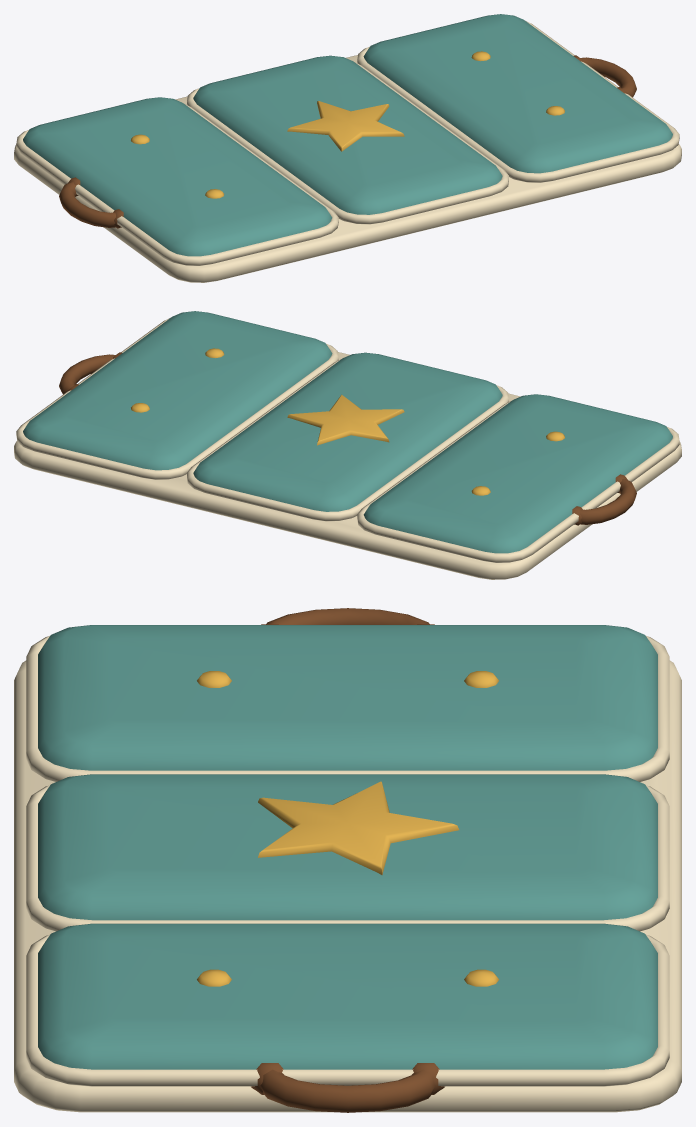
The model's file is ShopGymMat.fbx.
The picture shows the model from 3 angles, top to bottom: view 1: azimuth 30°, elevation 25°; view 2: azimuth 150°, elevation 25°; view 3: azimuth 270°, elevation 25°; orthographic projection. The views are drawn at different scales.
Parts seen in each view (by area): view 1: ShopGymMat; view 2: ShopGymMat; view 3: ShopGymMat.
Boxes of the visible parts, x1,y1,x2,y2 form: ShopGymMat: [14, 14, 681, 282]; ShopGymMat: [14, 311, 681, 579]; ShopGymMat: [14, 608, 681, 1112].
Bounding box in the file's own units: 2.08 × 0.134 × 1.2.
